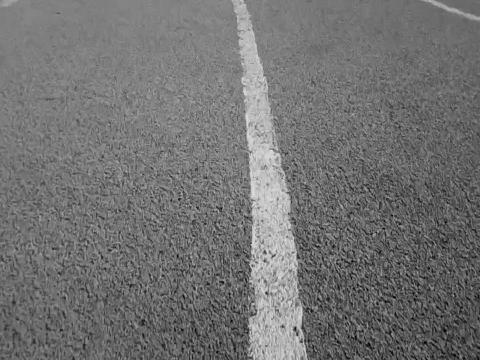Lines: (229, 0, 310, 360)
